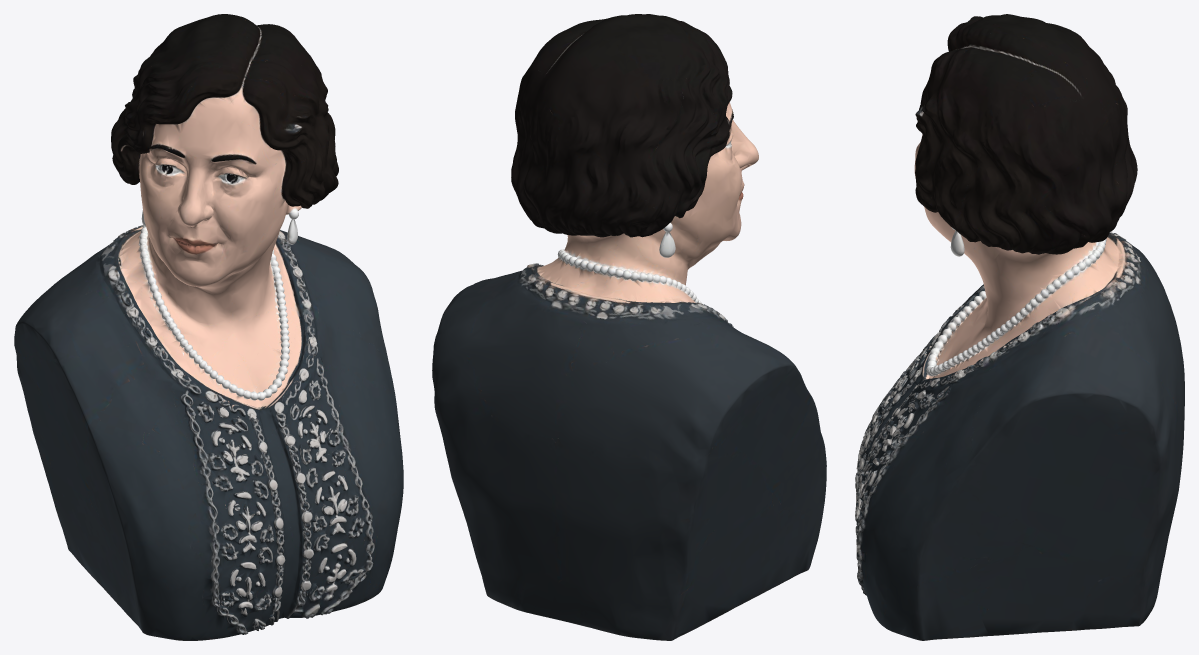
Rendered from carmen-burgos.glb.
The picture shows the model from 3 angles, left to right: view 1: azimuth 30°, elevation 25°; view 2: azimuth 150°, elevation 25°; view 3: azimuth 270°, elevation 25°; orthographic projection. The views are drawn at different scales.
Parts seen in each view (by area): view 1: Mesh_0.001; view 2: Mesh_0.001; view 3: Mesh_0.001.
Boxes of the visible parts, x1=… form: Mesh_0.001: x1=14, y1=14, x2=403, y2=640; Mesh_0.001: x1=432, y1=14, x2=826, y2=640; Mesh_0.001: x1=855, y1=14, x2=1184, y2=640.
Bounding box in the file's own units: 0.0901 × 0.15 × 0.0799.
Materials: 1 (1 with a texture image).
